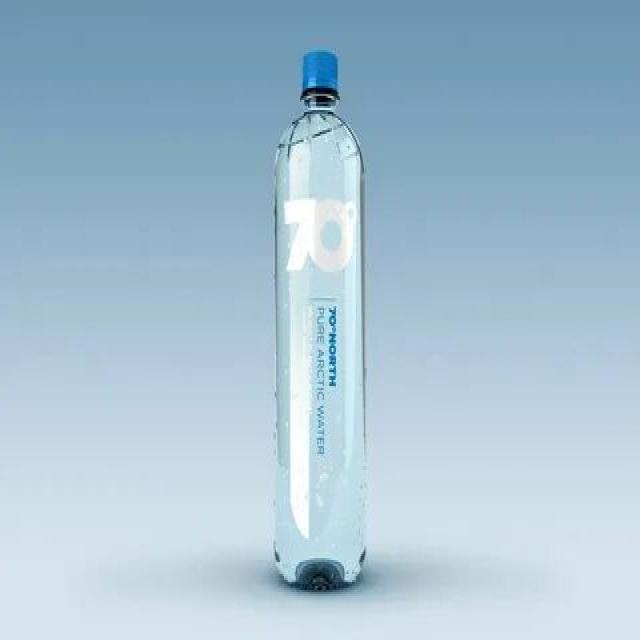blue: (273, 95, 367, 585)
